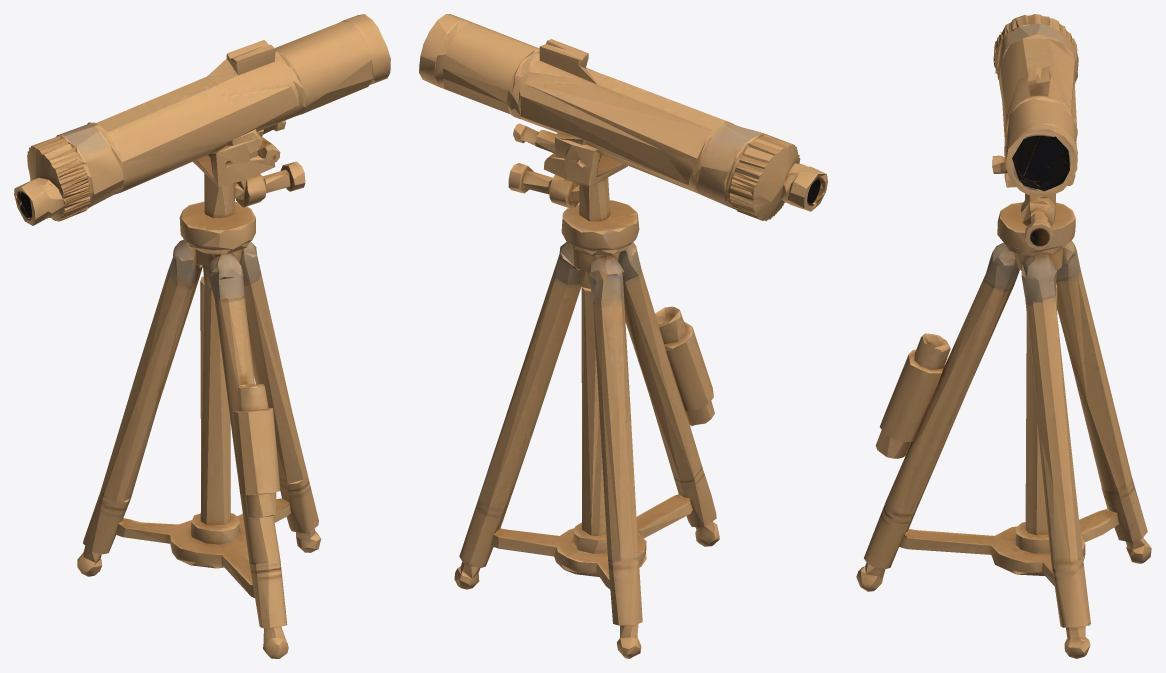
The picture shows the model from 3 angles, left to right: view 1: azimuth 30°, elevation 25°; view 2: azimuth 150°, elevation 25°; view 3: azimuth 270°, elevation 25°; orthographic projection. The views are drawn at different scales.
Size of the model in its own units: 0.7159 by 1 by 0.488.
Materials: 1 (1 with a texture image).
